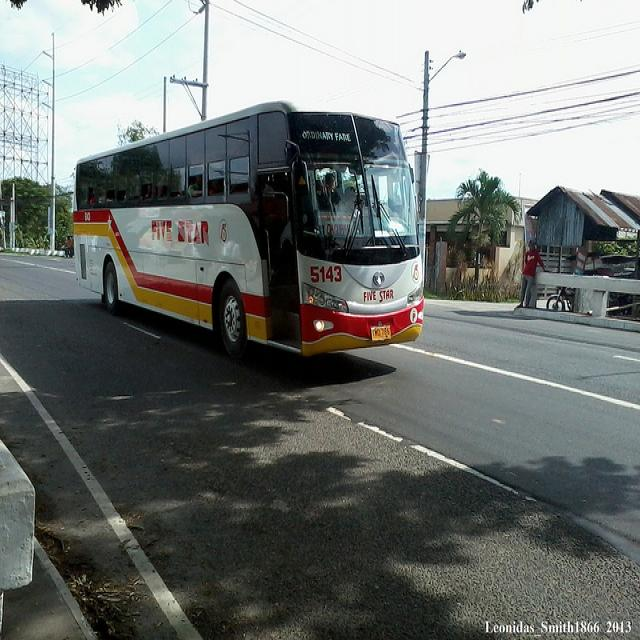motor: (546, 287, 575, 311)
